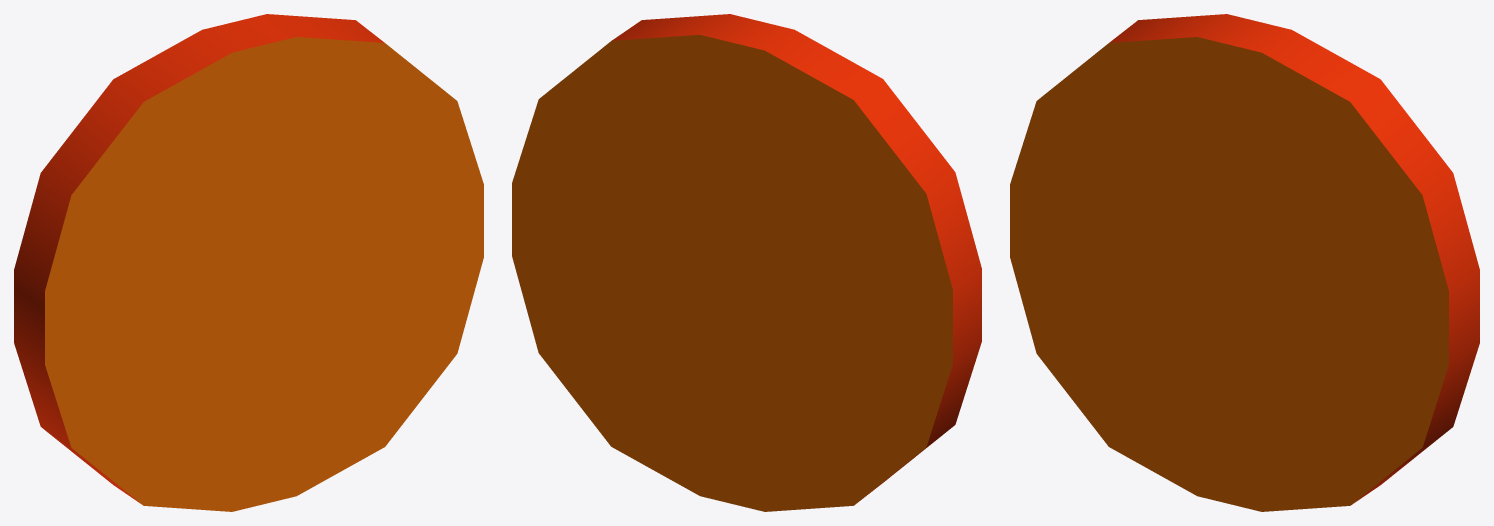
File: mesh_tomato_slice_stage05.fbx
3 views of the same model, side by side, from view 1: azimuth 30°, elevation 25°; view 2: azimuth 150°, elevation 25°; view 3: azimuth 330°, elevation 25° (orthographic).
Parts seen in each view (by area): view 1: mesh_tomato_slice_stage05; view 2: mesh_tomato_slice_stage05; view 3: mesh_tomato_slice_stage05.
Boxes of the visible parts, x1=… form: mesh_tomato_slice_stage05: x1=14, y1=14, x2=483, y2=511; mesh_tomato_slice_stage05: x1=512, y1=14, x2=981, y2=511; mesh_tomato_slice_stage05: x1=1010, y1=14, x2=1479, y2=511.
Bounding box in the file's own units: 0.1904 × 0.1904 × 0.0223.
